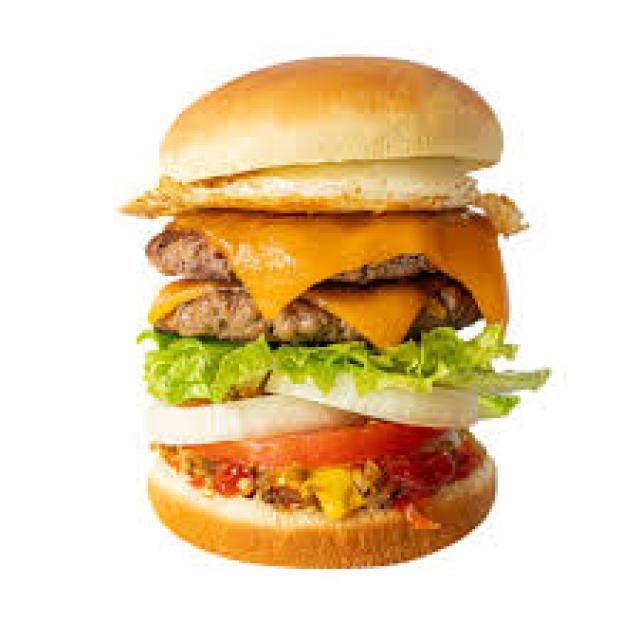햄버거: (140, 49, 514, 590)
